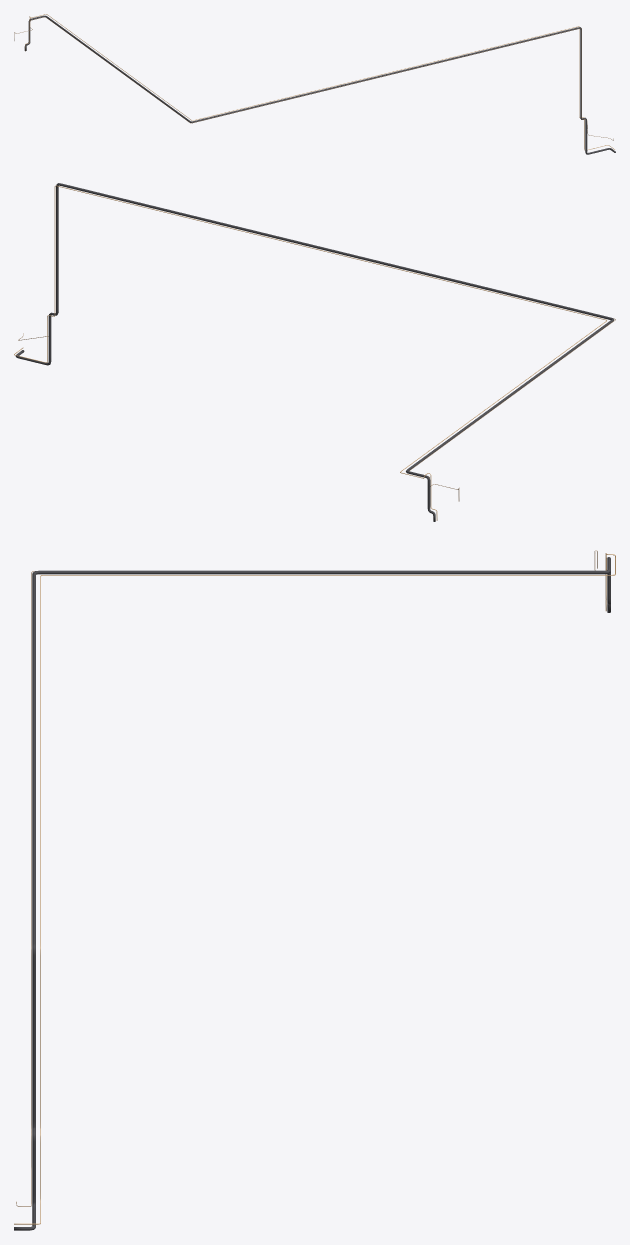
Rendered from slab_pipes_hvac__hvac-split_furnace_cond96.glb.
The picture shows the model from 3 angles, top to bottom: view 1: azimuth 30°, elevation 25°; view 2: azimuth 150°, elevation 25°; view 3: azimuth 270°, elevation 25°; orthographic projection. The views are drawn at different scales.
Parts seen in each view (by area): view 1: pipe_hvac_lineset_suction_rd16ay36, pipe_hvac_lineset_liquid_rd16ay36, pipe_hvac_lineset_tstat_cable_rd16ay36; view 2: pipe_hvac_lineset_suction_rd16ay36, pipe_hvac_lineset_liquid_rd16ay36; view 3: pipe_hvac_lineset_suction_rd16ay36, pipe_hvac_lineset_liquid_rd16ay36.
Part boxes in pixels (x1,y1,x2,y2): pipe_hvac_lineset_suction_rd16ay36: (24,15,615,154); pipe_hvac_lineset_liquid_rd16ay36: (25,14,614,150); pipe_hvac_lineset_tstat_cable_rd16ay36: (14,17,613,140); pipe_hvac_lineset_suction_rd16ay36: (15,183,614,521); pipe_hvac_lineset_liquid_rd16ay36: (14,185,606,520); pipe_hvac_lineset_suction_rd16ay36: (14,557,610,1230); pipe_hvac_lineset_liquid_rd16ay36: (14,553,615,1224).
Size of the model in its own units: 11.93 by 3.29 by 6.94.
